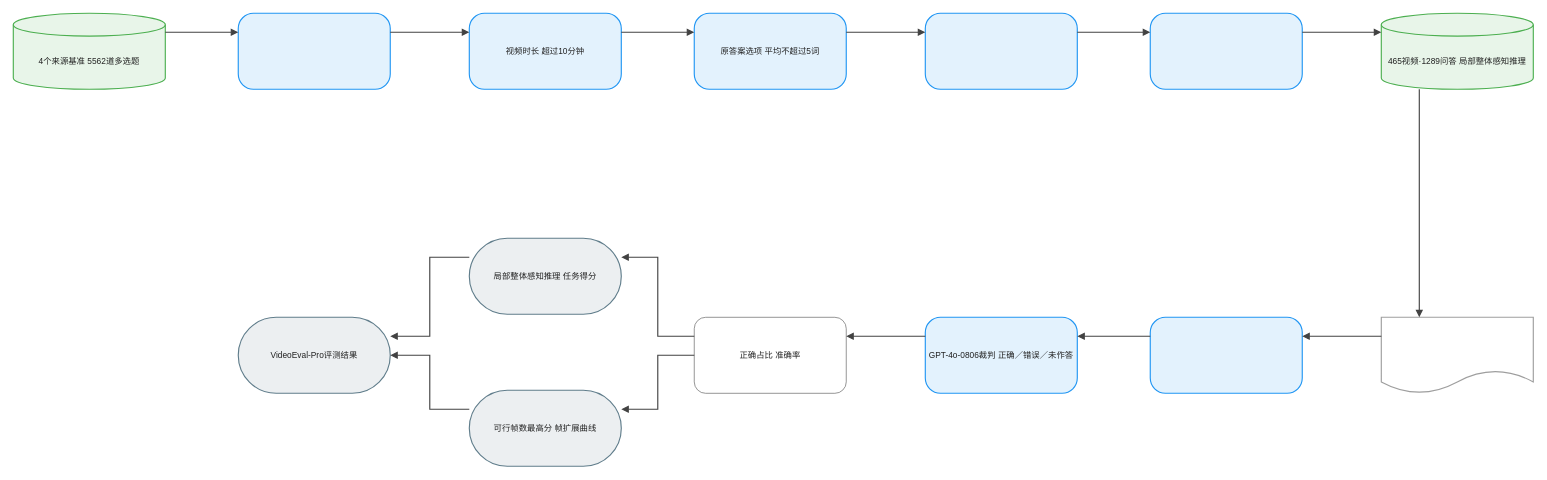
This 1547x480 diagram has some shape labels left out. Here are the shapes that lost their labels. From the top down, the centre of each, then its label:
the point at 313,51: 丢弃干扰项 转开放短答
the point at 1001,51: Gemini 2.0 Flash 可答性过滤
the point at 1225,51: 随机单帧 难度过滤
the point at 1225,355: 模型开放 短答案
the point at 1457,355: 32／64／128／256／512 帧输入
